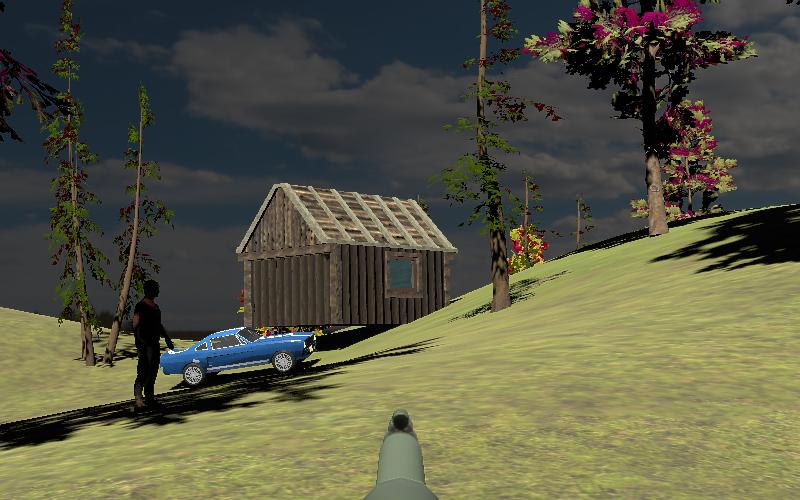House: (235, 182, 458, 340)
Human: (129, 276, 174, 414)
car: (156, 324, 321, 387)
